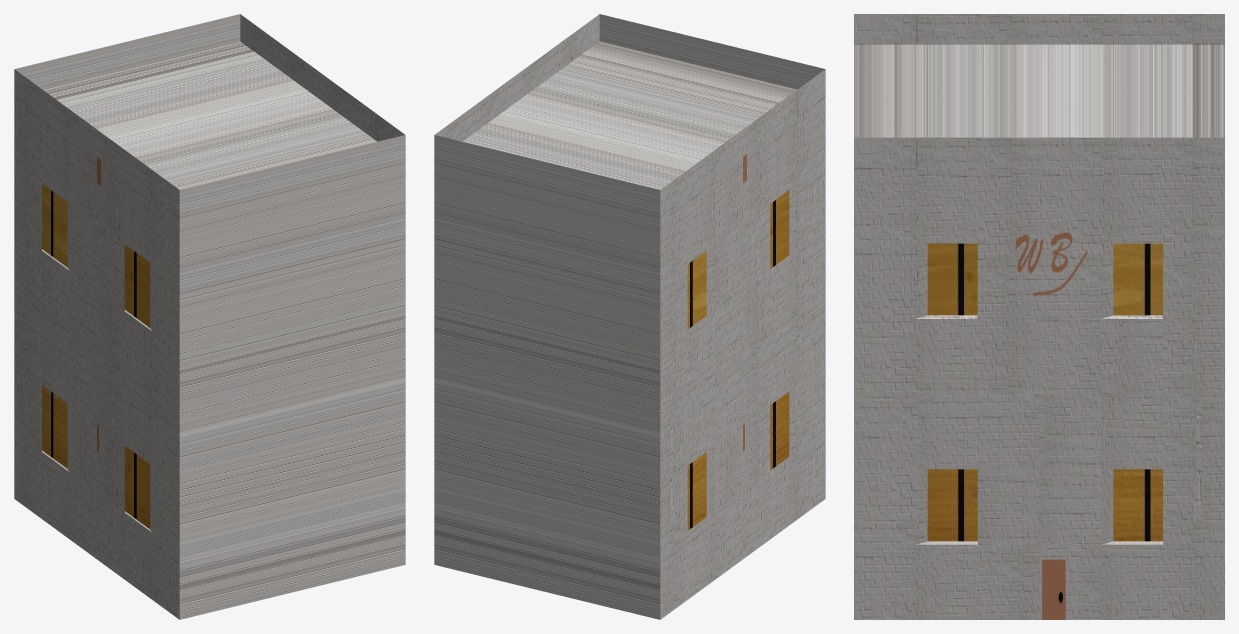
Rendered from wbhse.obj.
The picture shows the model from 3 angles, left to right: view 1: azimuth 30°, elevation 25°; view 2: azimuth 150°, elevation 25°; view 3: azimuth 270°, elevation 25°; orthographic projection. The views are drawn at different scales.
Parts seen in each view (by area): view 1: pCube1; view 2: pCube1; view 3: pCube1.
Boxes of the visible parts, x1,y1,x2,y2 form: pCube1: (14,14,405,619); pCube1: (434,14,825,619); pCube1: (854,14,1224,619).
Size of the model in its own units: 5.27 by 9.58 by 6.68.
4 materials, 4 textured.
